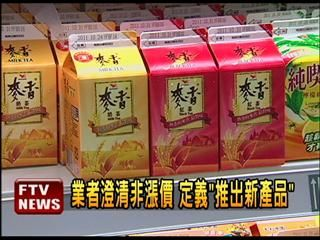milk tea: (79, 81, 150, 175), (1, 69, 59, 164)
